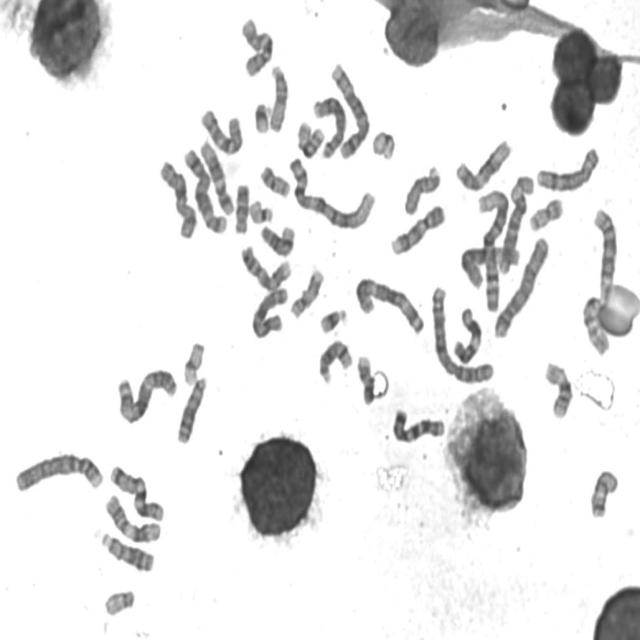A1: (286, 152, 378, 231), (476, 185, 511, 315)
A2: (428, 281, 496, 386), (582, 208, 618, 358)
A3: (352, 271, 426, 337), (114, 364, 179, 426)
B4: (491, 232, 551, 341), (12, 448, 106, 494)
B5: (328, 59, 372, 161), (180, 144, 228, 236)
C10: (197, 104, 245, 157), (238, 13, 275, 80)
C11: (102, 490, 163, 546), (450, 303, 482, 367)
C12: (453, 134, 513, 192), (198, 136, 235, 218)
C6: (497, 170, 534, 276), (458, 239, 522, 290)
C7: (106, 460, 166, 522), (390, 402, 447, 446)
C8: (534, 142, 602, 194), (309, 92, 348, 160)
C9: (388, 200, 447, 258), (238, 241, 292, 292)
D13: (98, 528, 155, 574), (174, 372, 208, 447)
D14: (316, 336, 354, 386), (257, 220, 296, 258)
D15: (401, 161, 442, 216), (266, 60, 289, 134)
E16: (542, 357, 574, 420), (294, 116, 326, 160)
E17: (288, 266, 326, 320), (354, 352, 376, 407)
E18: (587, 465, 620, 520), (231, 180, 251, 237)
F19: (181, 338, 206, 387), (369, 127, 397, 161)
F20: (526, 193, 565, 233), (257, 161, 292, 200)
G21: (316, 304, 349, 335), (251, 98, 272, 135)
G22: (101, 585, 136, 618), (247, 197, 275, 225)
X: (156, 156, 198, 240), (248, 284, 290, 340)
